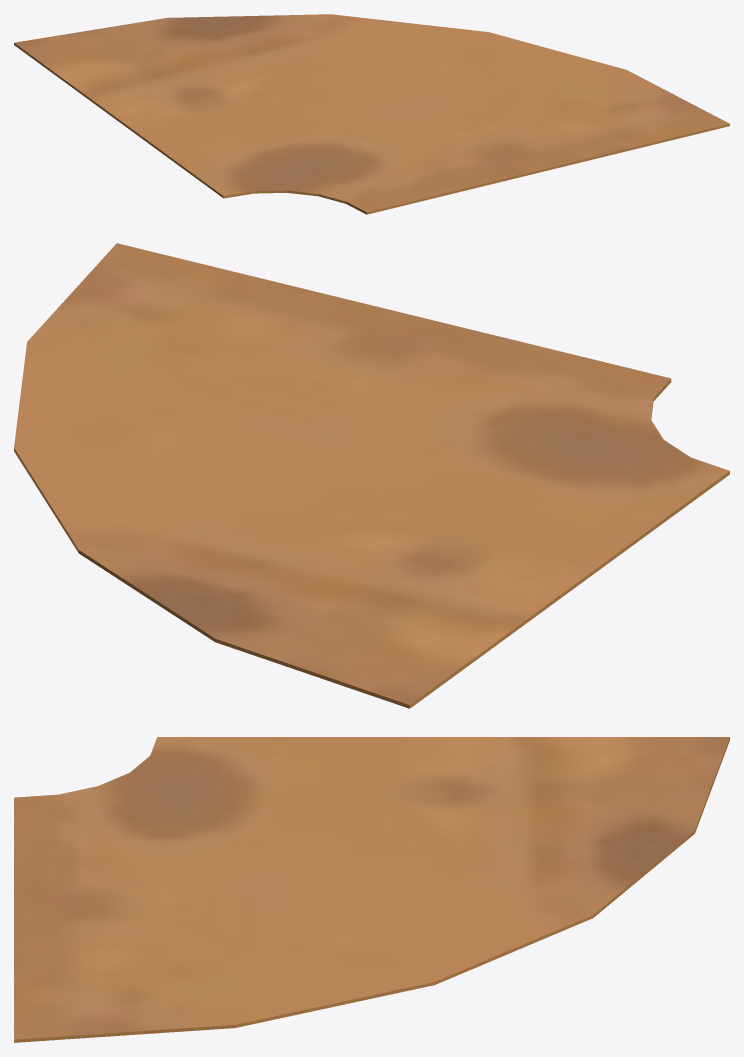
The model's file is rc_terrain_path_curve90_8m.glb.
3 renders of one model, top to bottom at view 1: azimuth 30°, elevation 25°; view 2: azimuth 150°, elevation 25°; view 3: azimuth 270°, elevation 25°, orthographic. The views are drawn at different scales.
Visible parts, largest first — view 1: SM_RC_Terrain_Path_Curve90_8m; view 2: SM_RC_Terrain_Path_Curve90_8m; view 3: SM_RC_Terrain_Path_Curve90_8m.
Boxes of the visible parts, bbox=[...] form: SM_RC_Terrain_Path_Curve90_8m: bbox=[14, 14, 729, 214]; SM_RC_Terrain_Path_Curve90_8m: bbox=[14, 243, 729, 708]; SM_RC_Terrain_Path_Curve90_8m: bbox=[14, 737, 729, 1042].
Bounding box in the file's own units: 10 × 0.05 × 10.
1 material, 1 textured.
